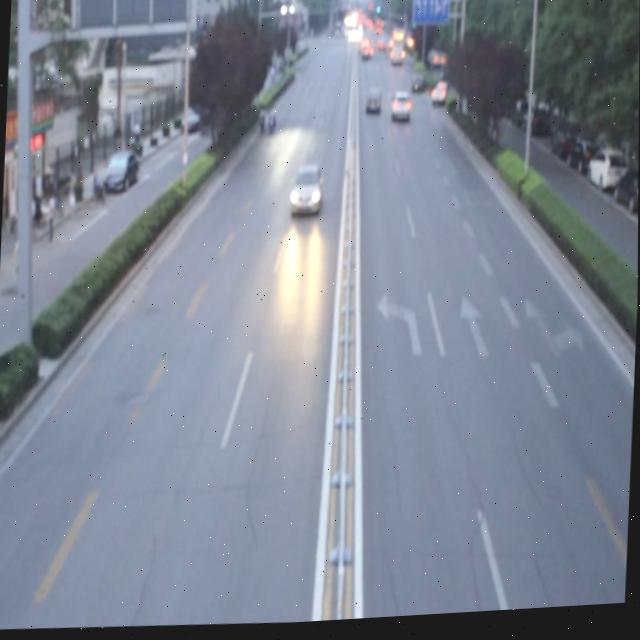car: (288, 166, 323, 222)
